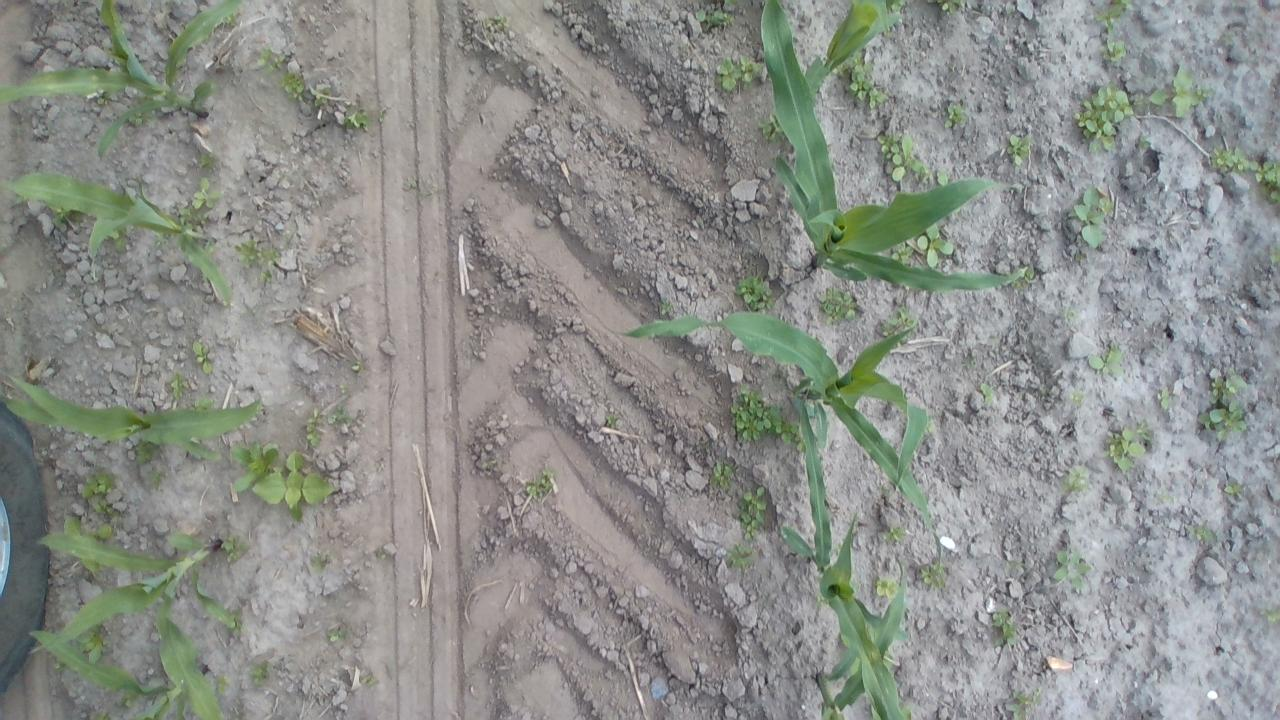Maize: (622, 314, 947, 570), (760, 0, 1025, 294), (776, 391, 906, 720), (27, 529, 232, 720), (0, 0, 249, 157), (4, 172, 232, 313), (0, 368, 263, 461), (29, 630, 210, 720), (812, 572, 914, 720), (799, 0, 901, 101)
Weeds: (230, 440, 335, 522), (1074, 82, 1134, 152), (832, 50, 888, 108), (1149, 69, 1213, 118), (730, 384, 783, 441), (876, 131, 934, 183), (1068, 185, 1114, 248), (1102, 418, 1151, 473), (1197, 400, 1247, 440), (732, 486, 768, 540), (914, 222, 954, 270), (715, 55, 763, 91), (817, 286, 859, 325), (72, 623, 110, 666), (732, 275, 776, 312), (1053, 549, 1091, 590), (881, 306, 918, 346), (1093, 0, 1131, 35), (1007, 686, 1043, 720), (1209, 370, 1247, 402), (62, 516, 112, 540), (1088, 344, 1123, 376), (1210, 146, 1248, 175), (992, 605, 1019, 645), (80, 470, 116, 499), (696, 8, 736, 33), (526, 468, 558, 498), (758, 112, 788, 143), (192, 178, 221, 209), (48, 204, 84, 228), (277, 72, 305, 102), (780, 420, 806, 452), (1007, 133, 1032, 166), (221, 534, 249, 563), (1249, 160, 1280, 186), (710, 459, 735, 490), (1006, 264, 1034, 291), (1062, 465, 1090, 492), (726, 544, 756, 569), (136, 438, 164, 464), (176, 204, 209, 226), (871, 575, 900, 600), (1098, 39, 1128, 63), (306, 408, 324, 446), (192, 340, 212, 374), (921, 562, 946, 589), (234, 239, 258, 266), (344, 109, 372, 132), (944, 103, 969, 128), (108, 224, 128, 254), (91, 498, 120, 518), (256, 246, 282, 268), (169, 372, 189, 399), (891, 241, 913, 265), (248, 660, 270, 684), (127, 109, 157, 126), (80, 558, 104, 579), (328, 404, 354, 423), (1186, 524, 1214, 540), (264, 54, 284, 76), (481, 14, 508, 30), (227, 610, 242, 636), (189, 396, 215, 411), (882, 526, 906, 542), (145, 470, 166, 487), (214, 674, 230, 696), (314, 86, 331, 106), (118, 691, 138, 708), (1259, 608, 1280, 624), (1262, 186, 1280, 204), (941, 0, 964, 14), (152, 228, 168, 248), (130, 93, 154, 106), (980, 382, 994, 404), (256, 48, 272, 67), (1156, 389, 1170, 410), (326, 628, 347, 642), (222, 11, 240, 27), (1069, 389, 1084, 408), (312, 554, 326, 574), (402, 174, 419, 190), (198, 153, 216, 168), (935, 168, 949, 187), (1223, 483, 1243, 496), (97, 90, 112, 106), (360, 674, 380, 686), (963, 355, 978, 370), (51, 656, 64, 672), (1063, 305, 1075, 322), (660, 298, 671, 316), (888, 0, 906, 11), (605, 411, 617, 427), (1270, 245, 1280, 264), (259, 270, 273, 283), (1134, 94, 1146, 108), (1138, 135, 1150, 149), (814, 593, 824, 609), (92, 712, 110, 720), (926, 416, 934, 434), (350, 360, 363, 371), (1158, 492, 1172, 501), (832, 542, 842, 554), (882, 27, 892, 38), (677, 42, 688, 52), (284, 232, 294, 242), (771, 371, 782, 380), (378, 551, 388, 560), (1006, 6, 1014, 16), (724, 0, 739, 5), (378, 110, 384, 122), (948, 65, 958, 72), (926, 0, 944, 3), (232, 715, 242, 720)
